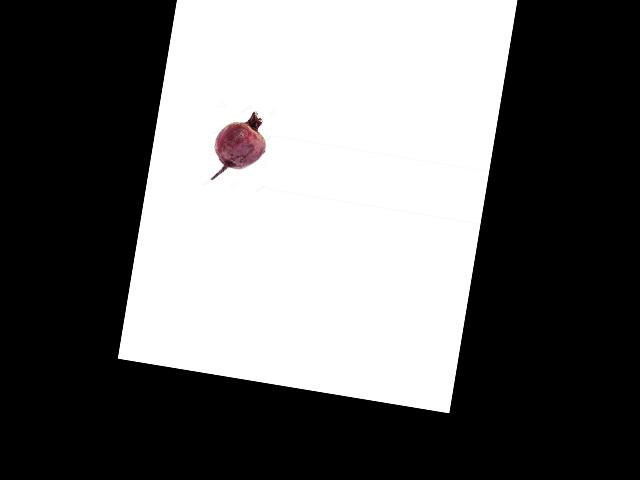beet: (208, 105, 270, 187)
